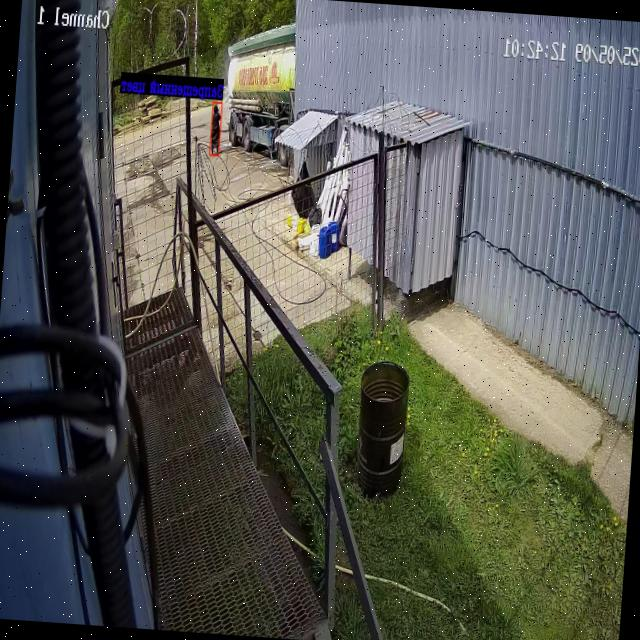Barrel: (355, 361, 410, 502)
